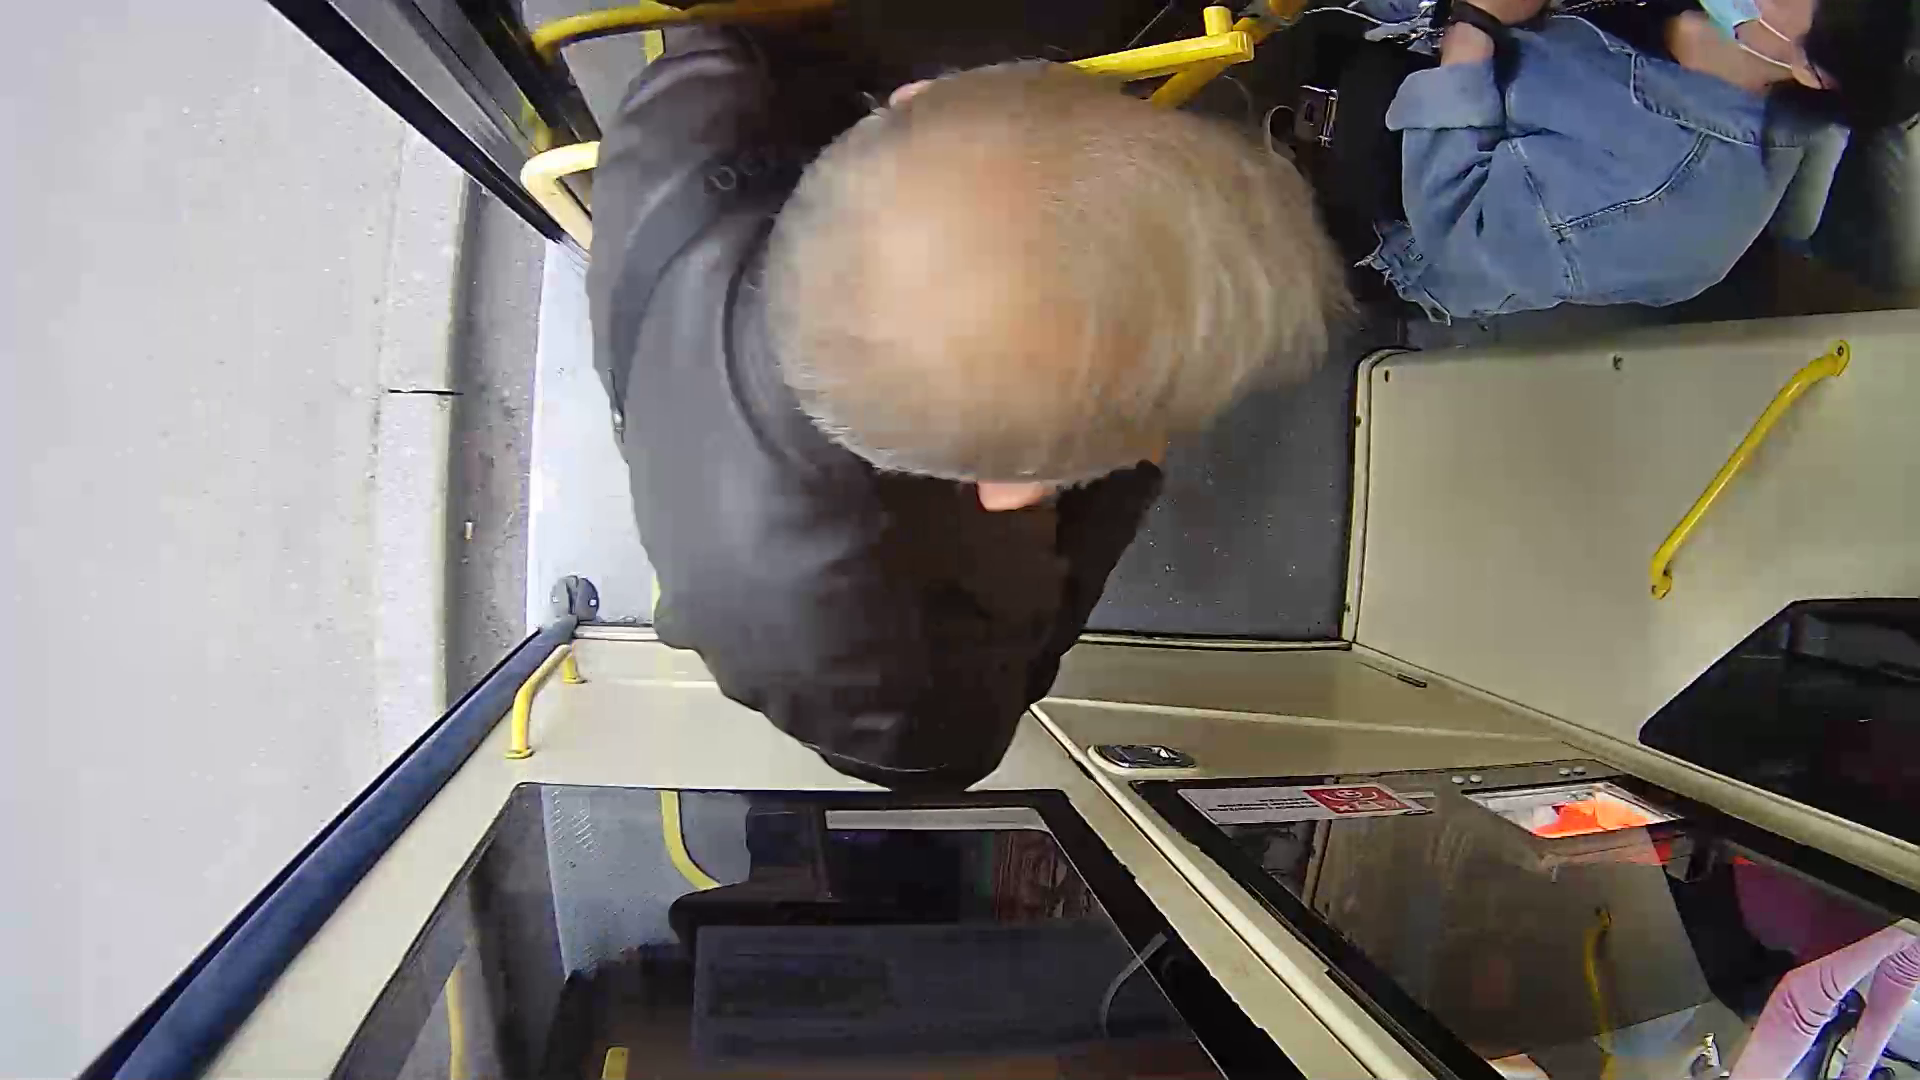person: (533, 55, 1316, 768)
